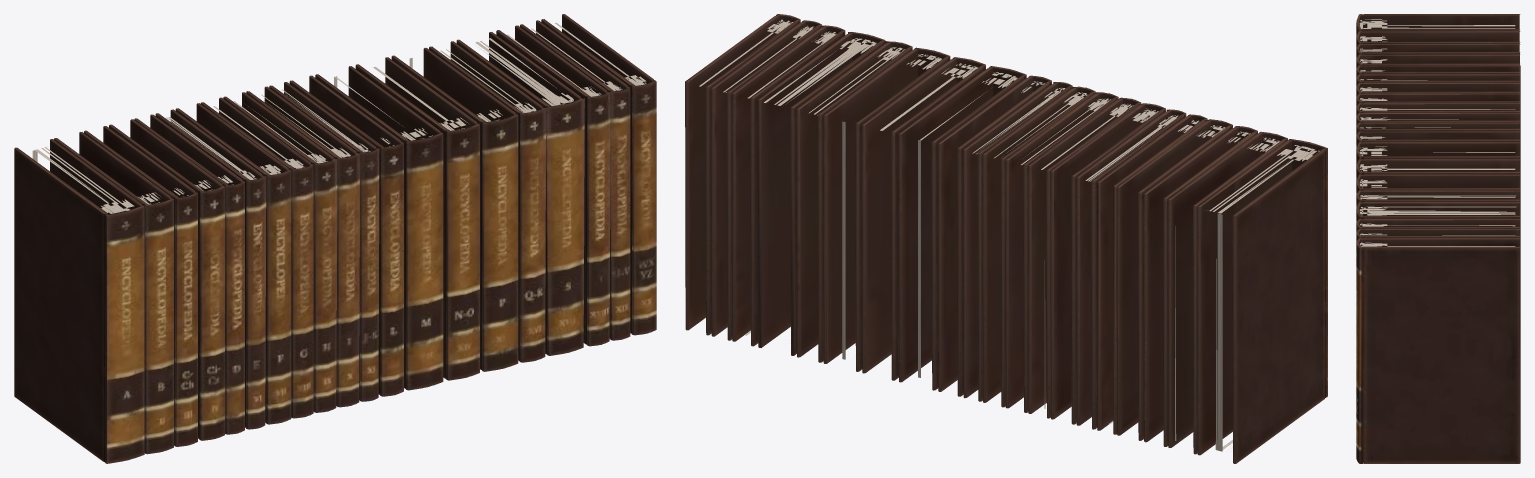
The model's file is book_encyclopedia_set_01.glb.
The picture shows the model from 3 angles, left to right: view 1: azimuth 30°, elevation 25°; view 2: azimuth 150°, elevation 25°; view 3: azimuth 270°, elevation 25°; orthographic projection. The views are drawn at different scales.
Visible parts, largest first — view 1: book_encyclopedia_set_01_book01; view 2: book_encyclopedia_set_01_book01; view 3: book_encyclopedia_set_01_book01.
Boxes of the visible parts, <box> form: book_encyclopedia_set_01_book01: <box>14,14,656,463</box>; book_encyclopedia_set_01_book01: <box>685,14,1327,463</box>; book_encyclopedia_set_01_book01: <box>1356,14,1520,463</box>.
Bounding box in the file's own units: 0.5516 × 0.2374 × 0.1636.
2 materials, 2 textured.
